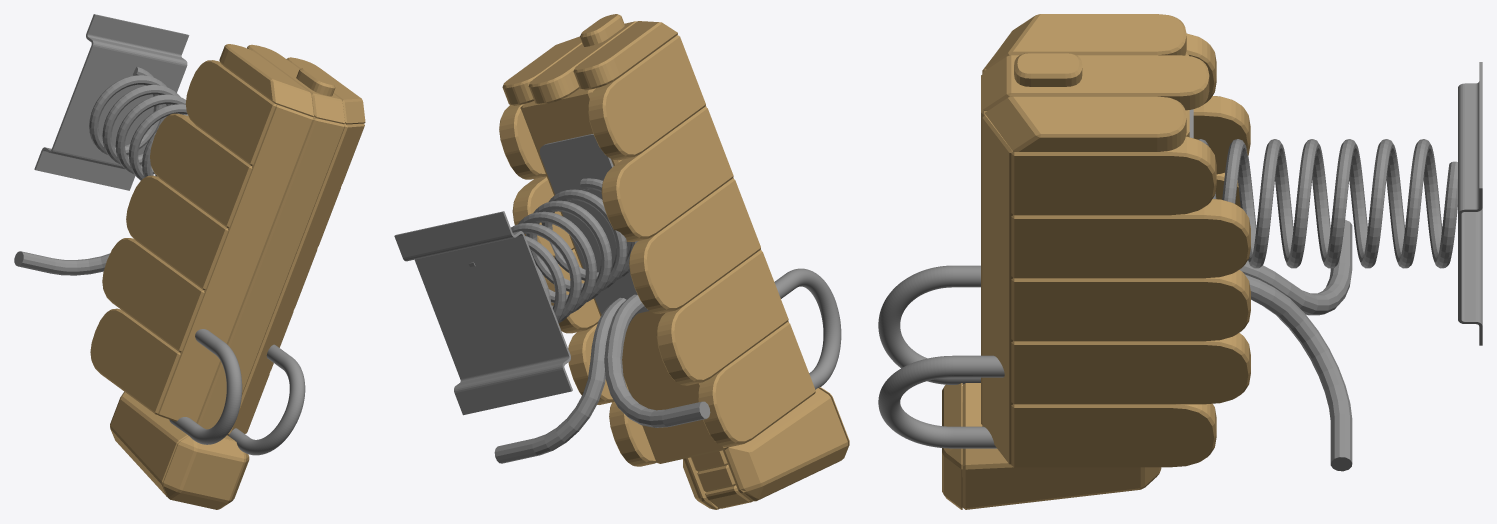
3 renders of one model, left to right at view 1: azimuth 30°, elevation 25°; view 2: azimuth 150°, elevation 25°; view 3: azimuth 270°, elevation 25°, orthographic. The views are drawn at different scales.
Visible parts, largest first — view 1: Элемент произвольной формы [935197], Элемент произвольной формы [935198]; view 2: Элемент произвольной формы [935197], Элемент произвольной формы [935198]; view 3: Элемент произвольной формы [935197], Элемент произвольной формы [935198].
Boxes of the visible parts, <box> form: Элемент произвольной формы [935197]: <box>90,44,365,509</box>; Элемент произвольной формы [935198]: <box>14,14,305,455</box>; Элемент произвольной формы [935197]: <box>499,14,849,509</box>; Элемент произвольной формы [935198]: <box>394,134,841,463</box>; Элемент произвольной формы [935197]: <box>942,14,1250,509</box>; Элемент произвольной формы [935198]: <box>878,62,1482,471</box>.
Bounding box in the file's own units: 0.5693 × 0.8863 × 0.8828.
